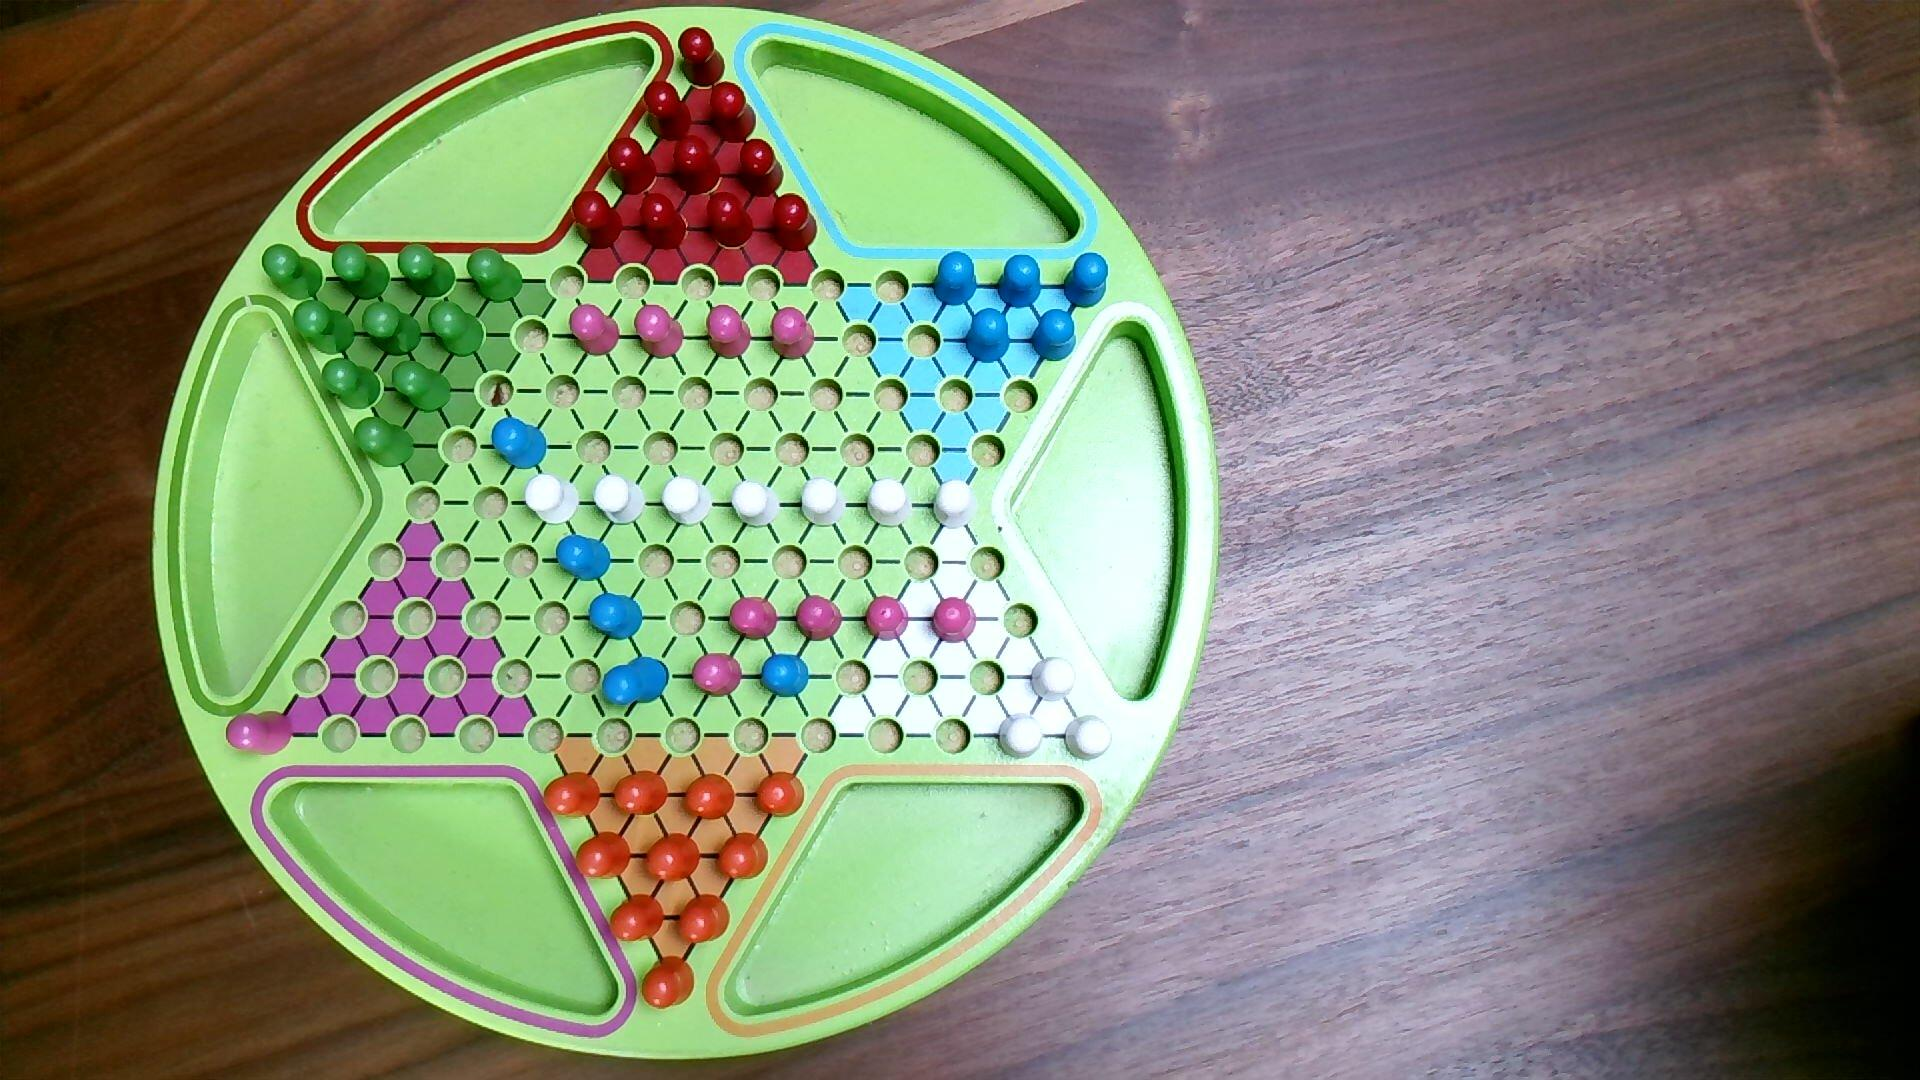B: (603, 655, 671, 707), (491, 417, 549, 471), (588, 593, 644, 642), (556, 534, 612, 583), (1063, 252, 1110, 309), (932, 251, 978, 309), (965, 309, 1011, 365), (996, 255, 1043, 309), (1031, 309, 1077, 363), (760, 651, 810, 699)
G: (291, 299, 357, 357), (261, 243, 324, 302), (332, 241, 392, 302), (361, 301, 425, 357), (320, 357, 386, 411), (397, 243, 458, 301), (429, 299, 487, 359), (467, 247, 525, 305), (392, 361, 454, 415), (353, 417, 417, 469)
O: (640, 956, 696, 1011), (644, 833, 703, 884), (575, 831, 633, 881), (676, 894, 732, 945), (609, 894, 666, 944), (543, 771, 603, 819), (613, 770, 670, 818), (716, 833, 770, 882), (683, 774, 737, 822), (754, 771, 806, 819)
R: (572, 190, 625, 251), (709, 80, 758, 145), (673, 135, 723, 196), (644, 80, 694, 142), (678, 26, 727, 90), (608, 137, 659, 196), (705, 193, 756, 251), (771, 193, 819, 253), (640, 193, 688, 251), (738, 138, 785, 198)
R2: (225, 709, 295, 757), (568, 302, 622, 357), (633, 305, 686, 361), (769, 306, 818, 363), (705, 305, 753, 361), (691, 651, 745, 699), (795, 595, 844, 644), (729, 596, 781, 642), (864, 595, 911, 644), (930, 597, 978, 645)
W: (524, 473, 582, 527), (592, 473, 647, 527), (662, 476, 713, 529), (731, 480, 782, 530), (1064, 713, 1114, 764), (799, 477, 848, 529), (932, 479, 980, 531), (866, 477, 914, 530), (1030, 655, 1077, 704), (998, 713, 1044, 761)
